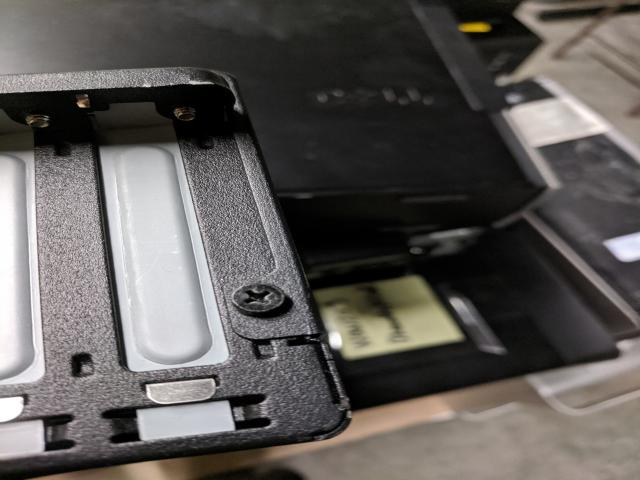CRS: (233, 281, 292, 314)
